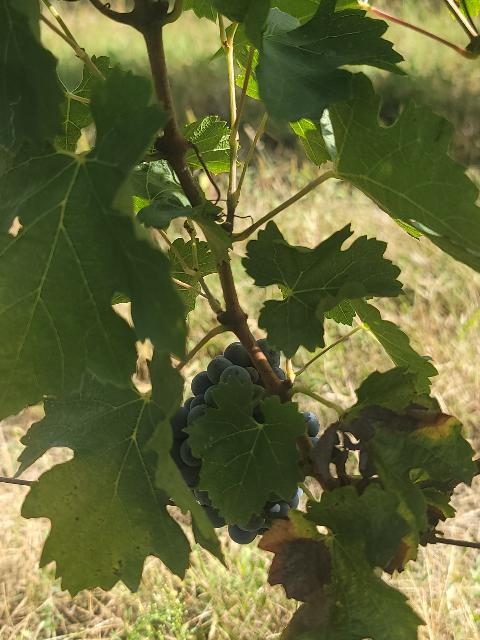grapes: (170, 342, 265, 528), (229, 515, 271, 544), (258, 339, 286, 380), (262, 490, 300, 519), (301, 411, 320, 442)
